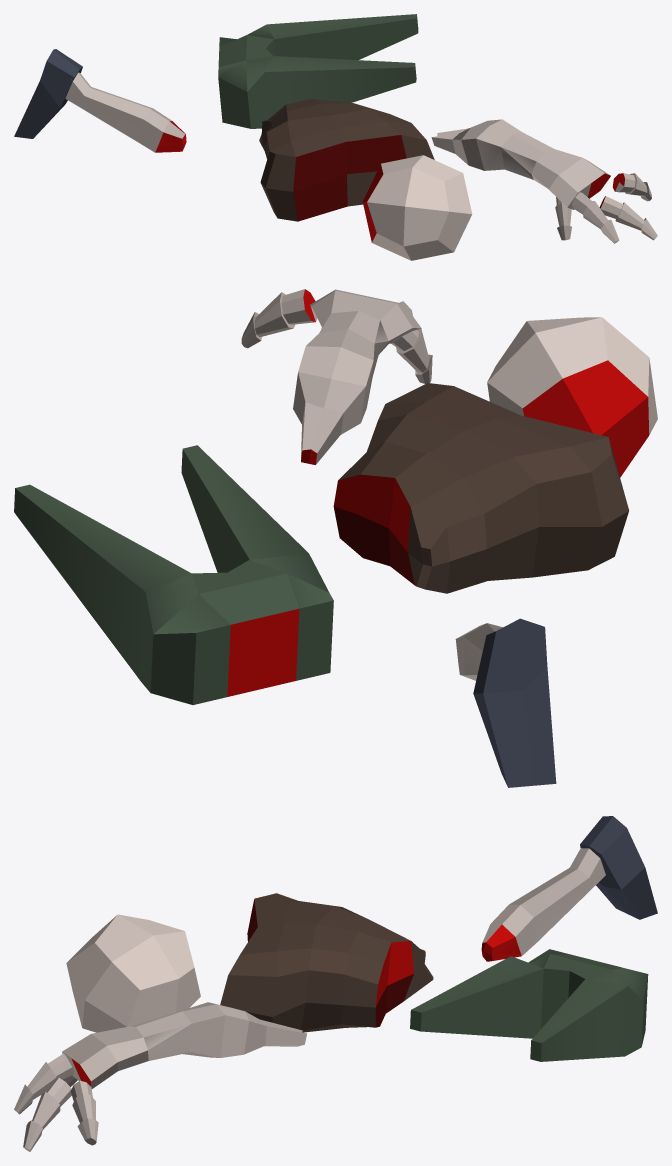
File: deadguy07.fbx
The picture shows the model from 3 angles, top to bottom: view 1: azimuth 30°, elevation 25°; view 2: azimuth 150°, elevation 25°; view 3: azimuth 270°, elevation 25°; orthographic projection. The views are drawn at different scales.
Parts seen in each view (by area): view 1: polySurface166; view 2: polySurface166; view 3: polySurface166.
Boxes of the visible parts, <box> form: polySurface166: <box>14,14,657,260</box>; polySurface166: <box>14,289,657,787</box>; polySurface166: <box>14,816,657,1151</box>.
Size of the model in its own units: 153 by 36.17 by 170.
